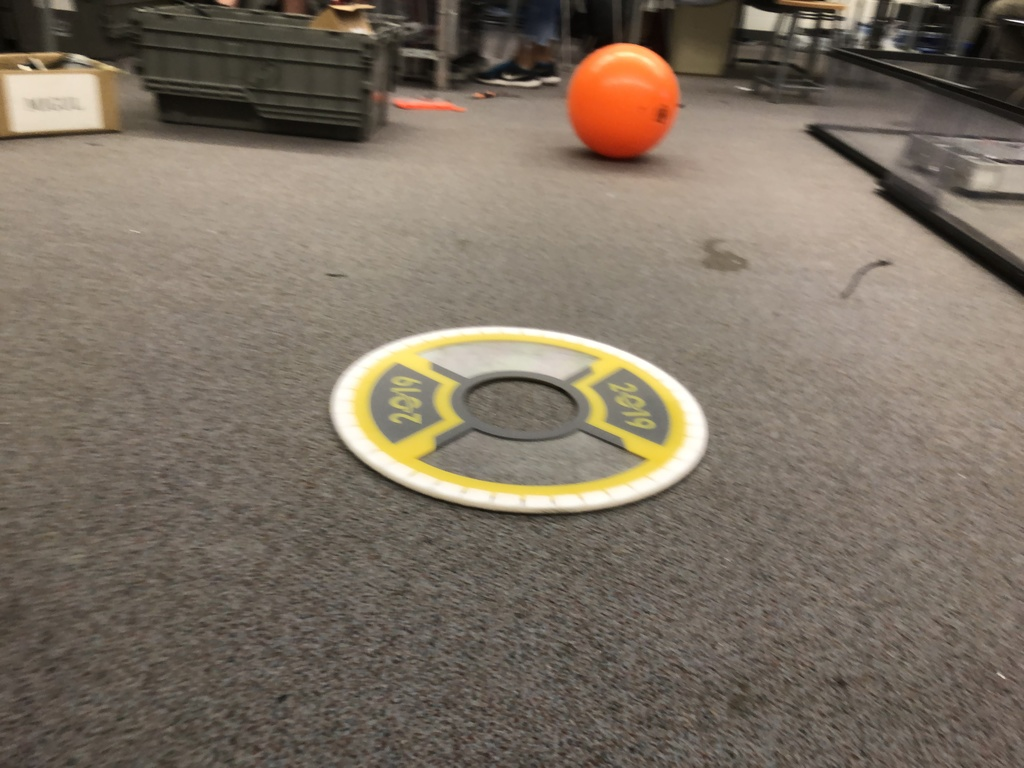hatch_panel: (324, 315, 734, 521)
